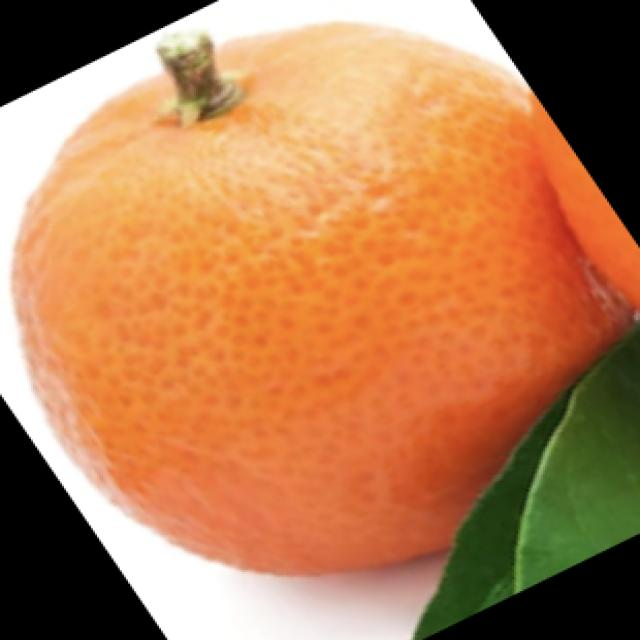matang: (12, 15, 614, 565), (534, 107, 640, 354)
